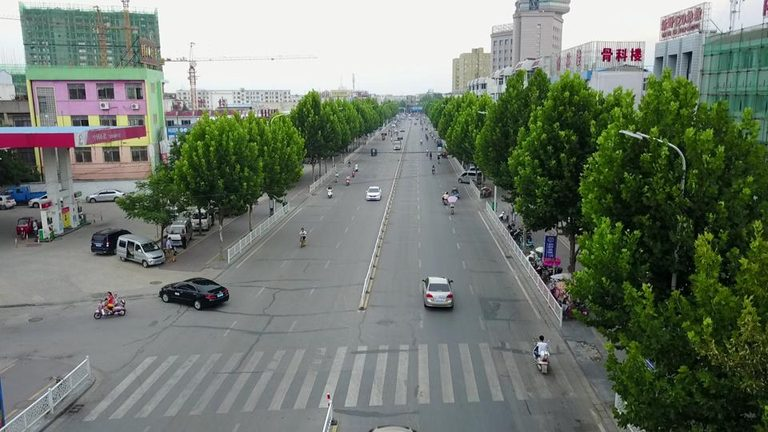car: (158, 278, 229, 310), (419, 275, 456, 312), (90, 226, 134, 255), (83, 187, 128, 203), (25, 194, 64, 209), (189, 208, 214, 230), (363, 186, 383, 201), (396, 134, 402, 140)
motor: (94, 298, 126, 318), (532, 343, 550, 374), (498, 210, 515, 223), (326, 187, 334, 198), (300, 234, 306, 248), (442, 196, 448, 206), (450, 204, 455, 215), (334, 174, 340, 181), (431, 167, 436, 174), (346, 178, 350, 186), (351, 170, 355, 177), (354, 165, 358, 172), (437, 158, 440, 164), (429, 154, 432, 158), (426, 150, 427, 156)
pedestrian: (32, 219, 41, 238), (179, 228, 186, 250)
people: (532, 337, 550, 361), (102, 291, 114, 314), (166, 238, 178, 254), (111, 294, 119, 311), (298, 227, 306, 242), (449, 200, 454, 211), (442, 192, 448, 201), (326, 186, 332, 194), (452, 186, 458, 194), (345, 174, 350, 182), (334, 172, 338, 180), (352, 167, 356, 174), (354, 162, 358, 169), (436, 155, 440, 160), (372, 149, 376, 154), (432, 165, 435, 171), (429, 151, 432, 157), (426, 148, 429, 153)
tricycle: (14, 217, 45, 240), (478, 187, 493, 199), (450, 187, 460, 199)
truck: (0, 186, 49, 203), (392, 140, 402, 150)
van: (116, 234, 165, 268), (168, 217, 192, 247), (456, 170, 483, 185)
